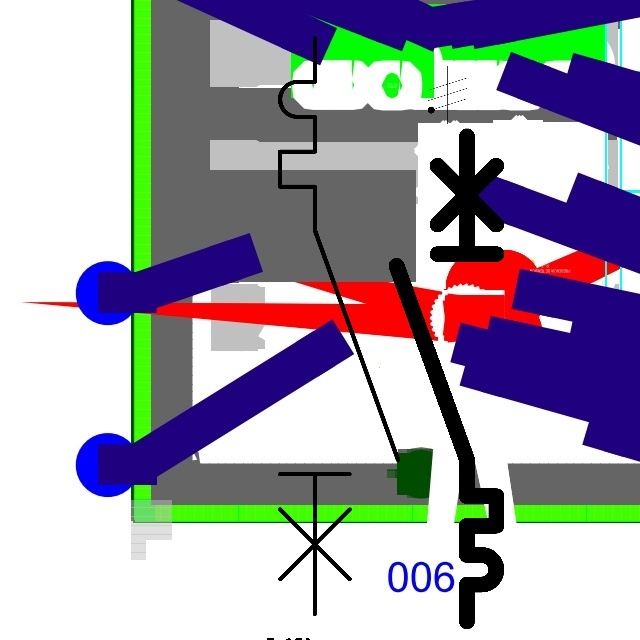interruptor_termomagnetico: (265, 23, 413, 628), (384, 123, 509, 633)
